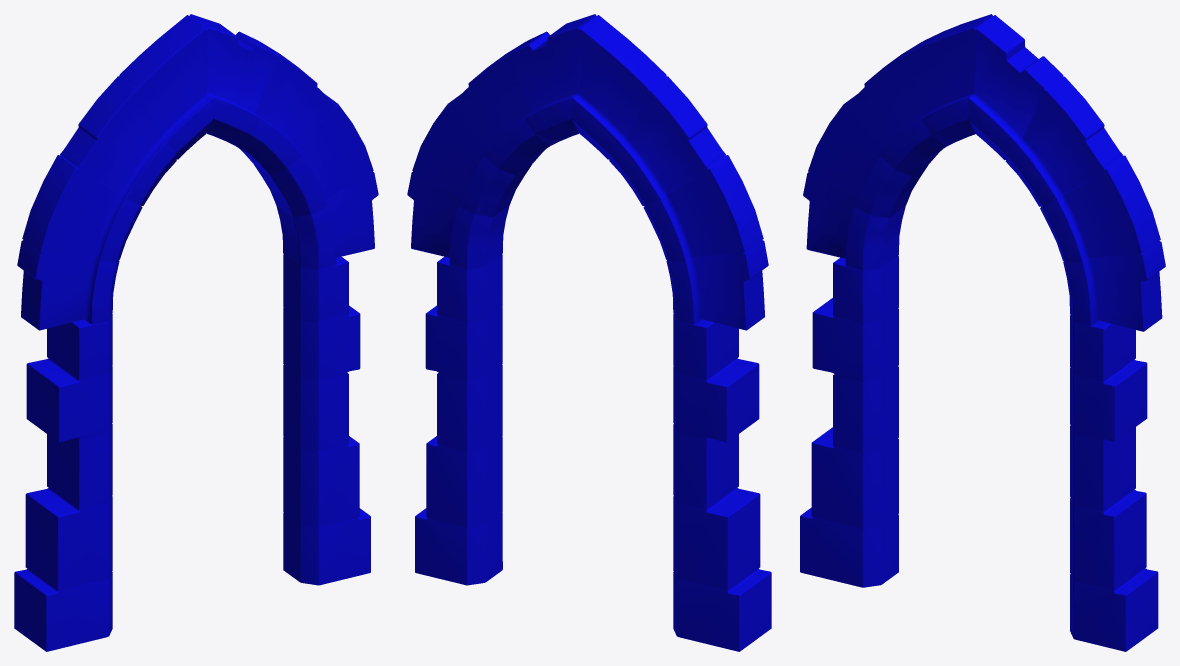
The model's file is Door1PeakFrame1.fbx.
The picture shows the model from 3 angles, left to right: view 1: azimuth 30°, elevation 25°; view 2: azimuth 150°, elevation 25°; view 3: azimuth 330°, elevation 25°; orthographic projection.
Parts seen in each view (by area): view 1: Door1PeakFrame1; view 2: Door1PeakFrame1; view 3: Door1PeakFrame1.
Part boxes in pixels (x1,y1,x2,y2): Door1PeakFrame1: [14, 14, 378, 651]; Door1PeakFrame1: [407, 14, 771, 651]; Door1PeakFrame1: [800, 14, 1165, 651].
Bounding box in the file's own units: 202 × 326 × 33.34.
